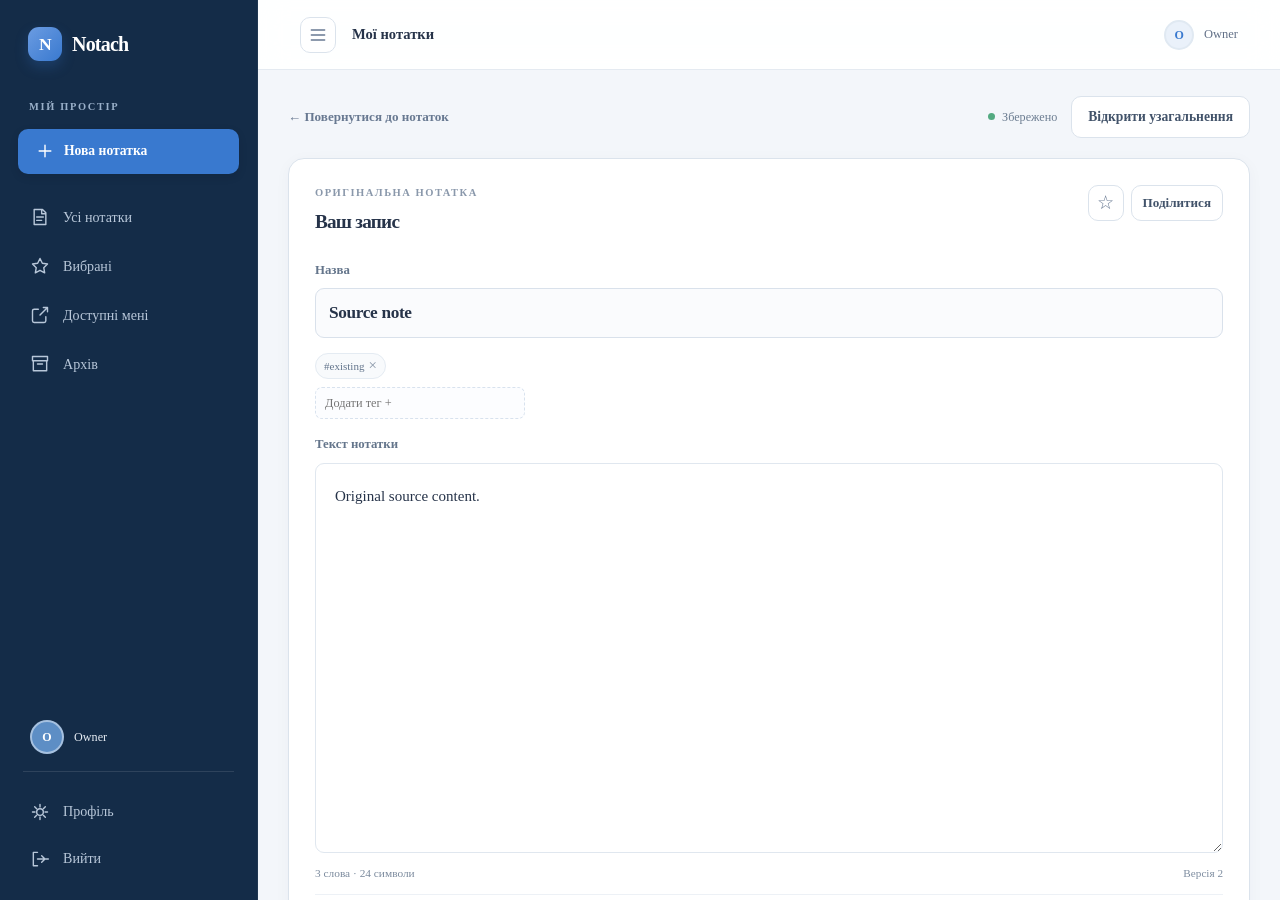
Test: note summary workspace › confirms deletion in an app dialog and can cancel without a request
This screenshot has width=1280, height=900.
Expected: the field showing "Source note" is shown, [315, 288, 1223, 338]
What coordinates should you click on to do the following:
click the button "Відкрити узагальнення"
I would click on:
 (1161, 117)
Its box is [1071, 96, 1250, 138].
(page scrolled)
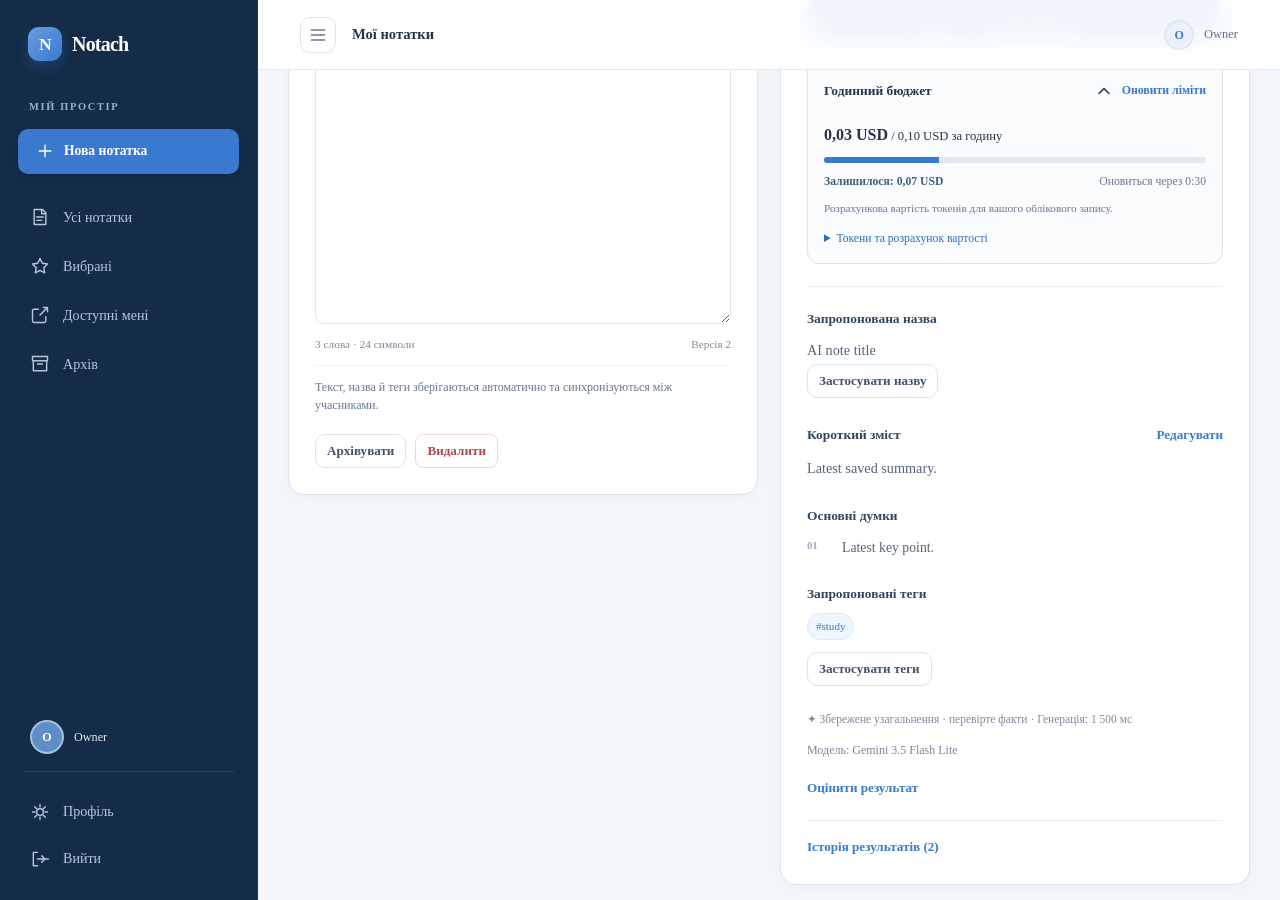
Result: the text "Latest saved summary." is shown at [807, 460, 937, 476]
What coordinates should you click on to do the following:
click the button "Видалити"
I would click on:
 (457, 451)
Its box is [415, 434, 498, 468].
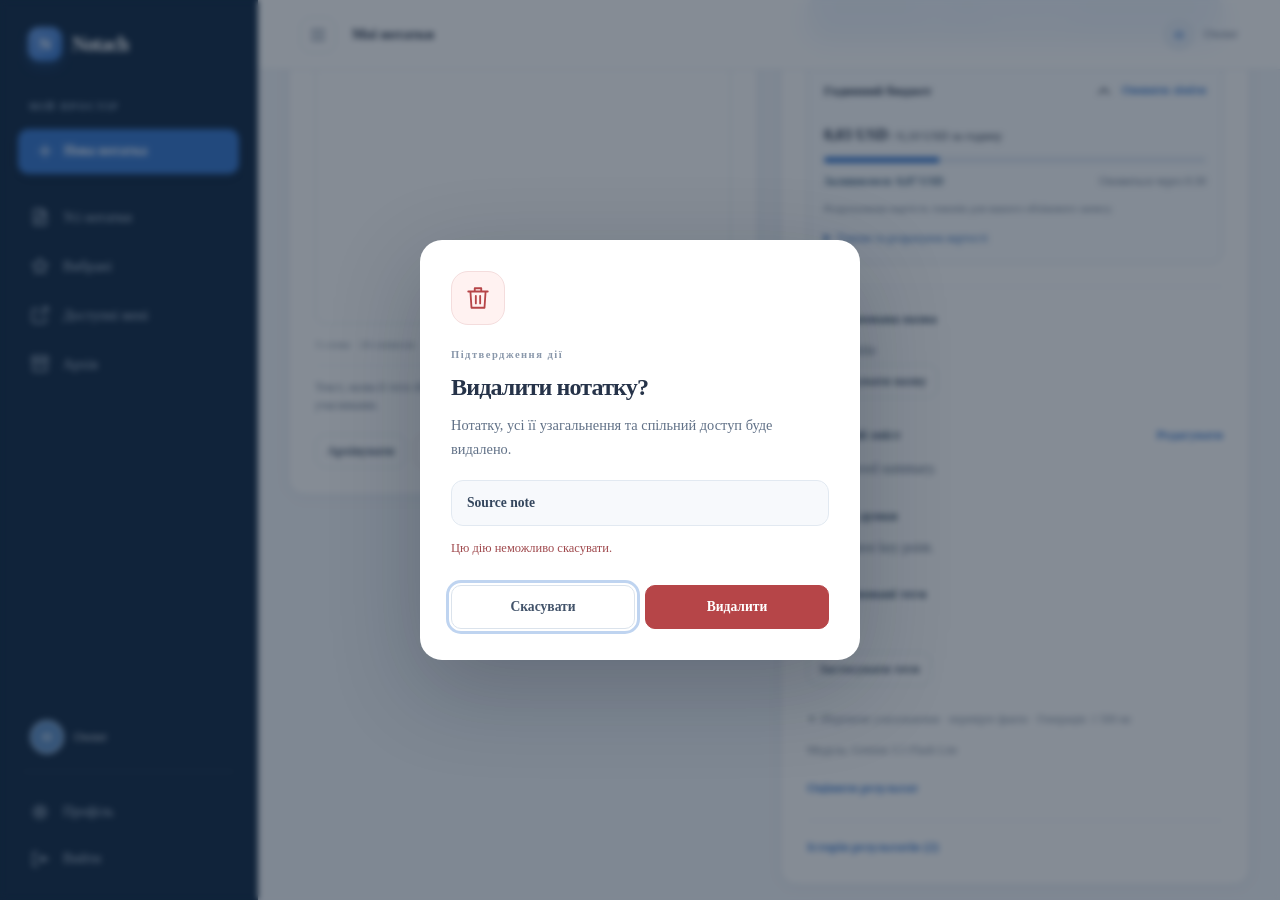
Result: the text "Source note" is shown at [467, 494, 535, 510]
What coordinates should you click on to do the following:
click the button "Скасувати"
I would click on:
 (543, 607)
Its box is [451, 585, 635, 629].
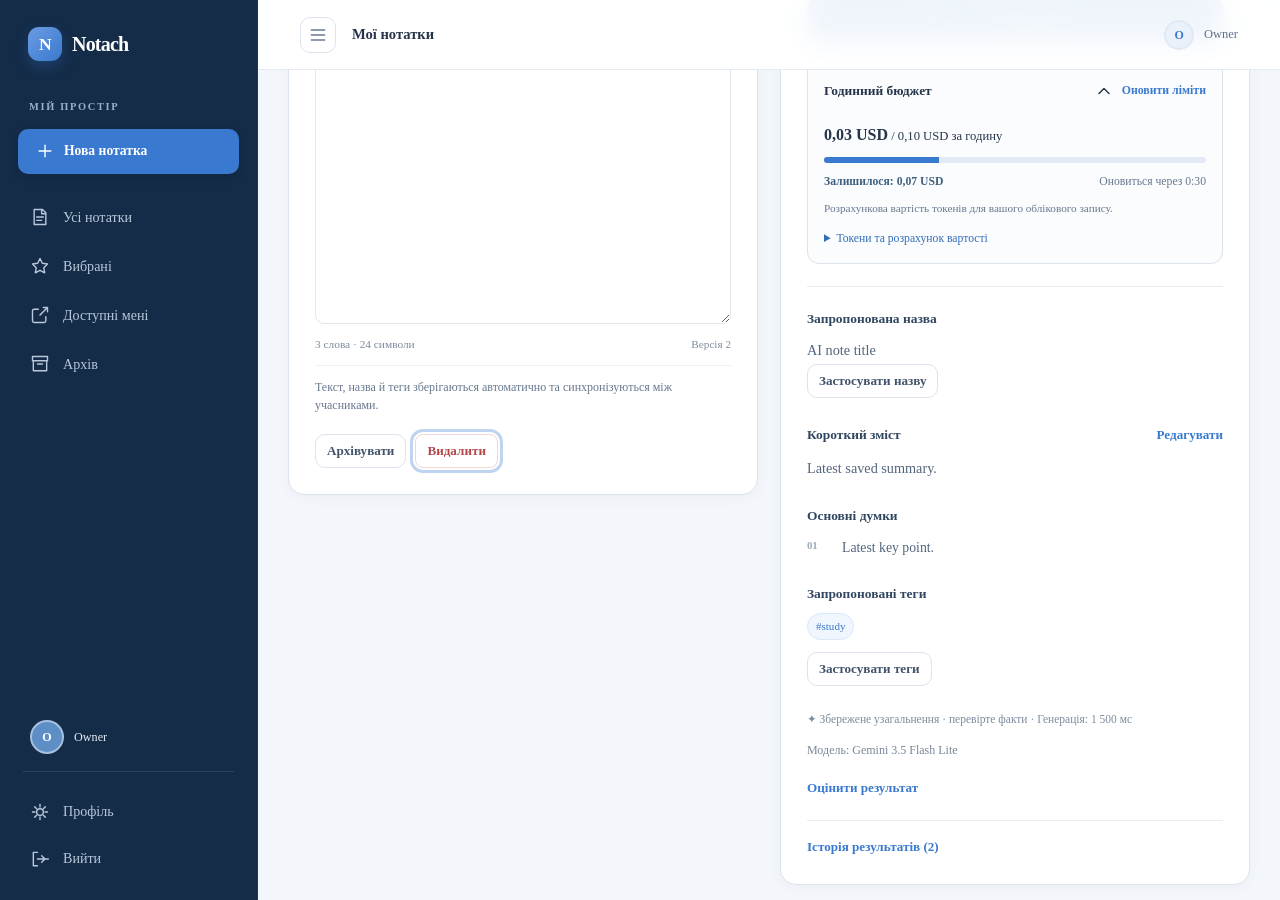
Result: the dialog is gone
